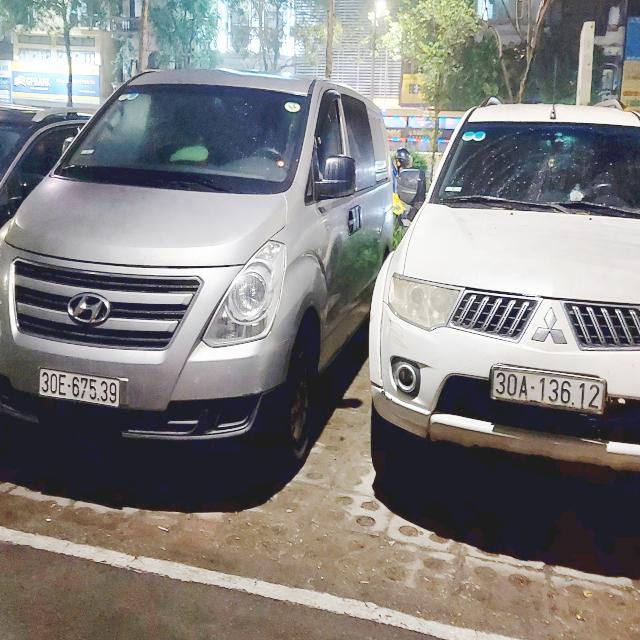license_plate: (492, 366, 608, 417), (38, 367, 123, 411)
